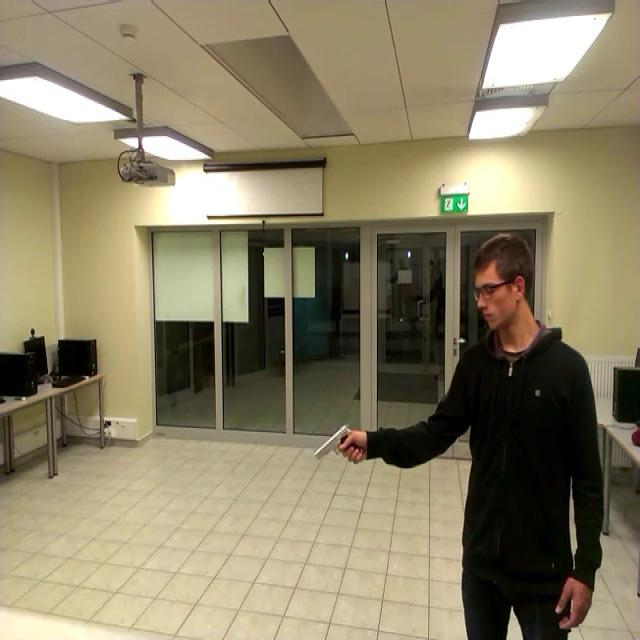Gun: (308, 417, 368, 479)
